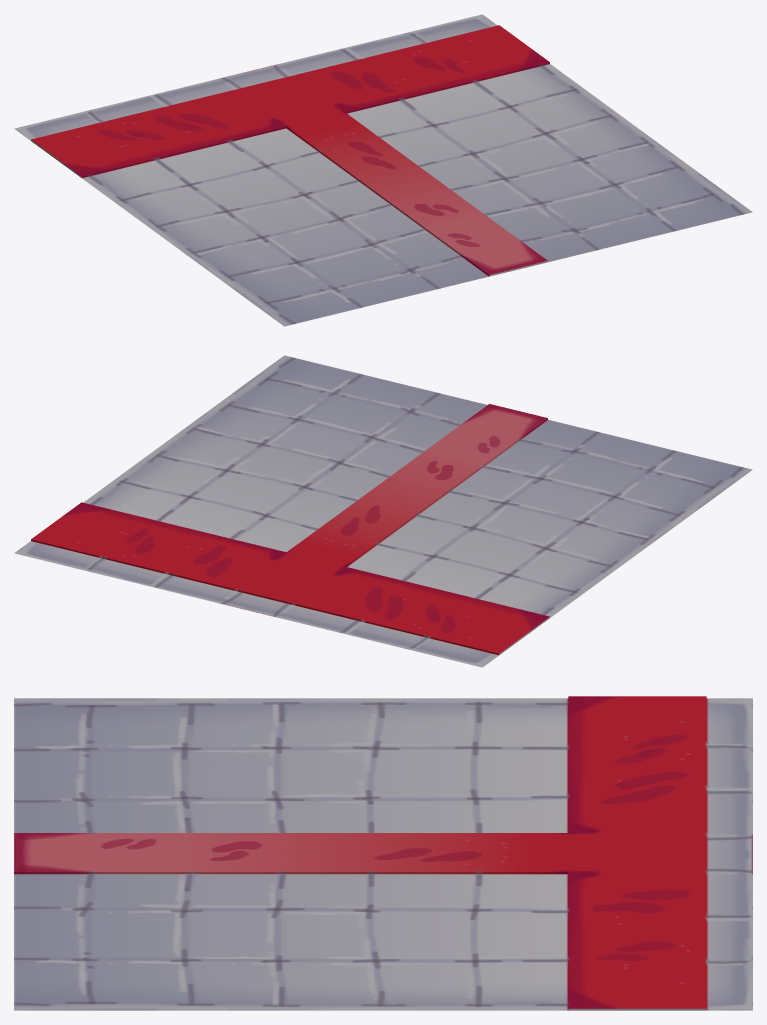
Rendered from Chao.fbx.
The picture shows the model from 3 angles, top to bottom: view 1: azimuth 30°, elevation 25°; view 2: azimuth 150°, elevation 25°; view 3: azimuth 270°, elevation 25°; orthographic projection. The views are drawn at different scales.
Visible parts, largest first — view 1: Chao; view 2: Chao; view 3: Chao.
Boxes of the visible parts, x1=… form: Chao: x1=14, y1=14, x2=752, y2=326; Chao: x1=14, y1=355, x2=752, y2=667; Chao: x1=14, y1=696, x2=752, y2=1010.
Size of the model in its own units: 1600 by 5 by 1600.
Materials: 1 (1 with a texture image).
